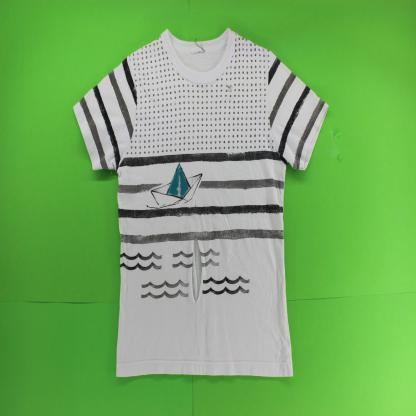hole: (189, 231, 204, 306), (226, 84, 233, 94)
